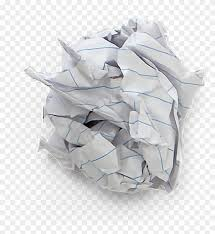crumpled paper: (8, 8, 215, 213)
